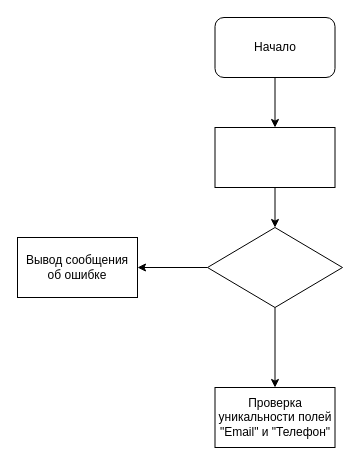
This 360x465 diagram has some shape labels left out. The shapes that lost their labels are listed below. From the top down, each one's box as (x1, y1, x2, y2) in pixels, then its label:
(214, 126, 335, 188): Пользователь нажал кнопку "Заказать"
(206, 226, 342, 308): Данные корректны?
